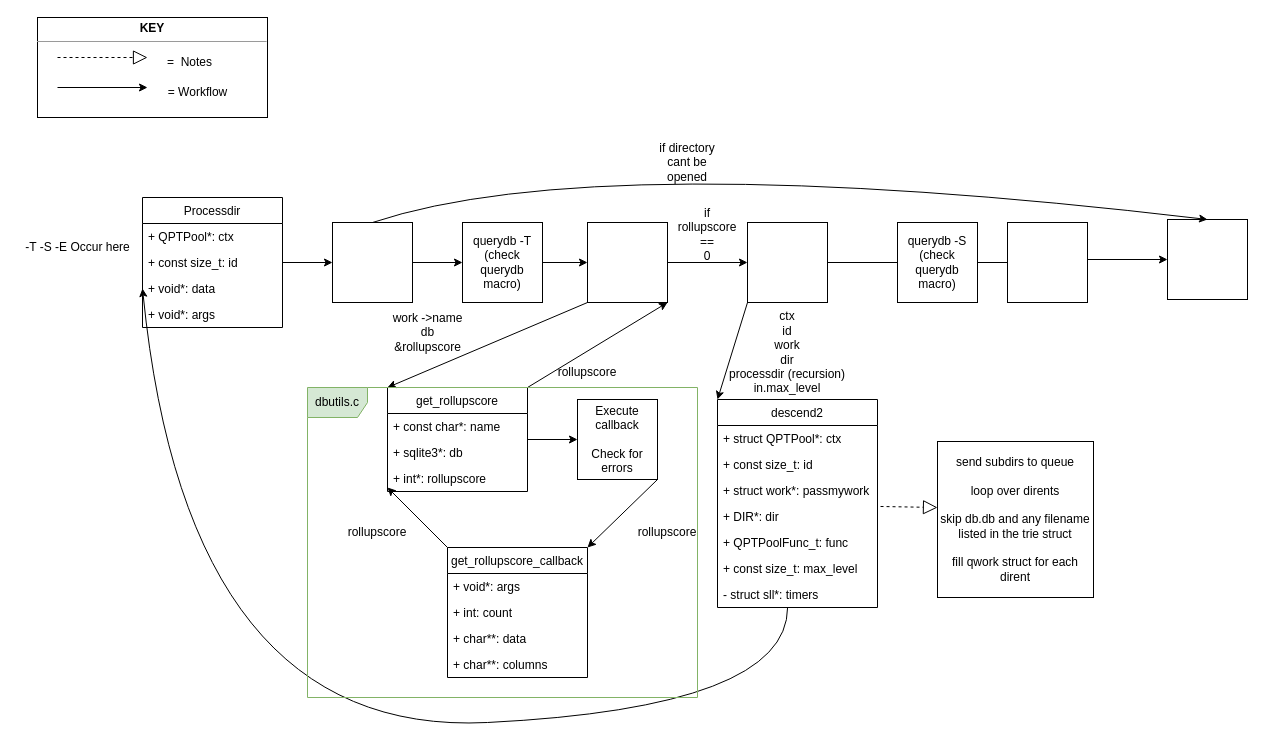
Image size: 1265x741. Some labels were removed from this diagram. Here are the shapes that lost their labels. From the top down, the centre of each, then its label:
At point 372,262: "open database".
At point 627,262: "get the rollupscore".
At point 787,262: "descend (recursion)".
At point 1047,262: "querydb -E (check querydb macro)".
At point 1207,259: "close dir and free (GO TO wait and destroy threads)".
